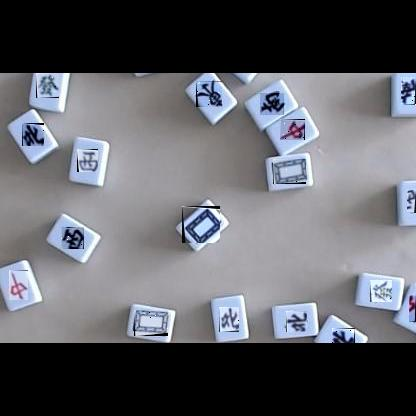1z: (196, 81, 222, 107)
2z: (260, 92, 284, 115), (401, 77, 416, 105)
3z: (61, 227, 84, 249), (77, 149, 98, 172), (407, 189, 416, 213)
4z: (22, 123, 44, 146), (219, 307, 239, 332), (286, 311, 307, 332), (332, 328, 355, 343)
5z: (182, 206, 220, 243), (134, 310, 168, 336), (273, 159, 306, 184)
6z: (36, 73, 59, 98), (370, 280, 392, 302)
7z: (9, 270, 28, 300), (280, 119, 305, 140), (409, 295, 416, 322)
